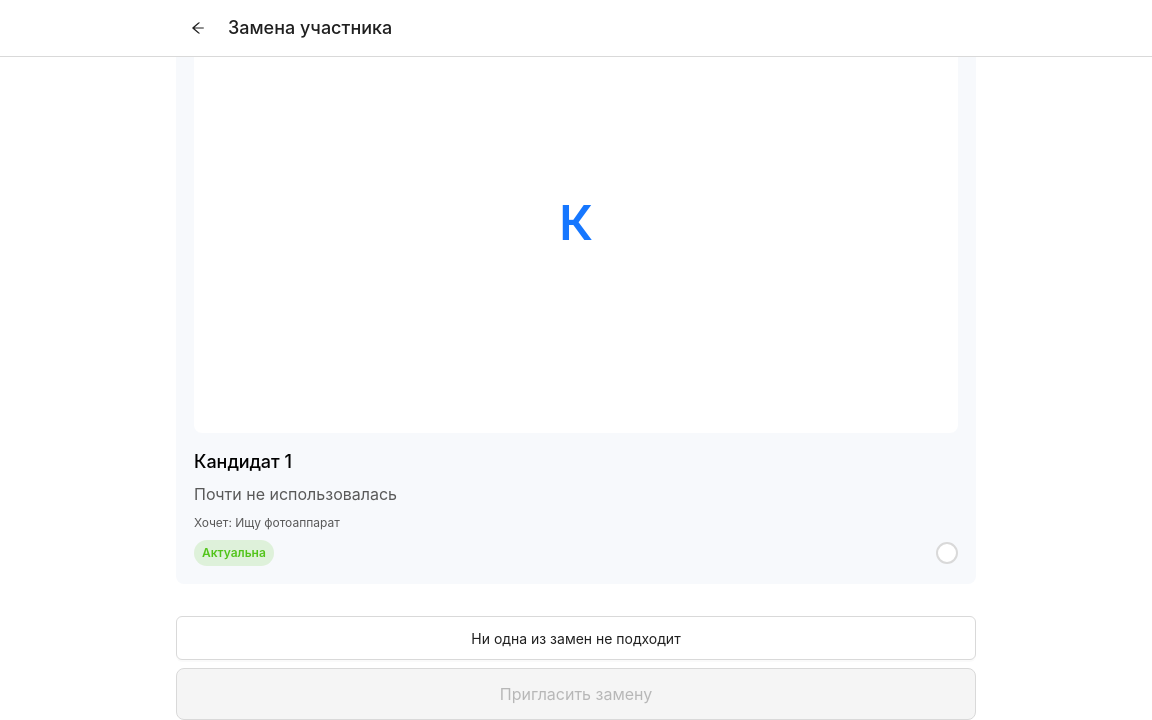
ChainReplacementPage › blocks the invite button until a candidate is picked
The width and height of the screenshot is (1152, 720).
(page scrolled)
Check: the button "Пригласить замену" is disabled, box [176,668,976,719]
Click the radio button: (947, 553) [936,542,958,564]
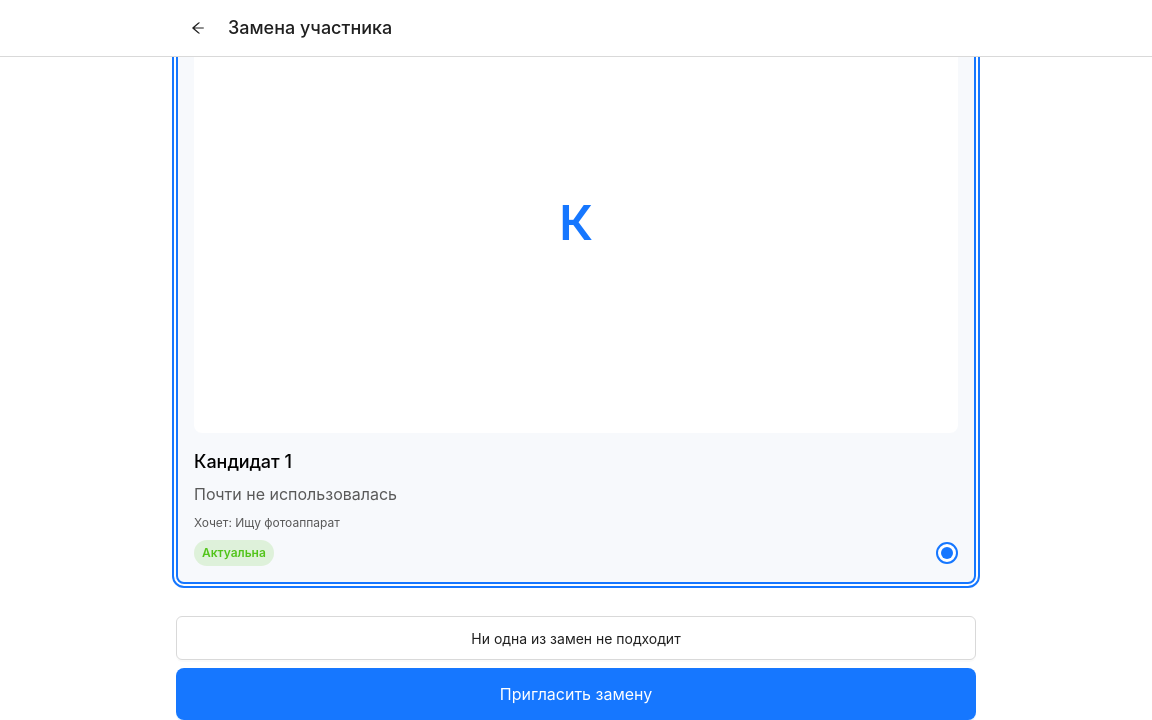
Check: the button "Пригласить замену" is enabled, box [176,668,976,719]
